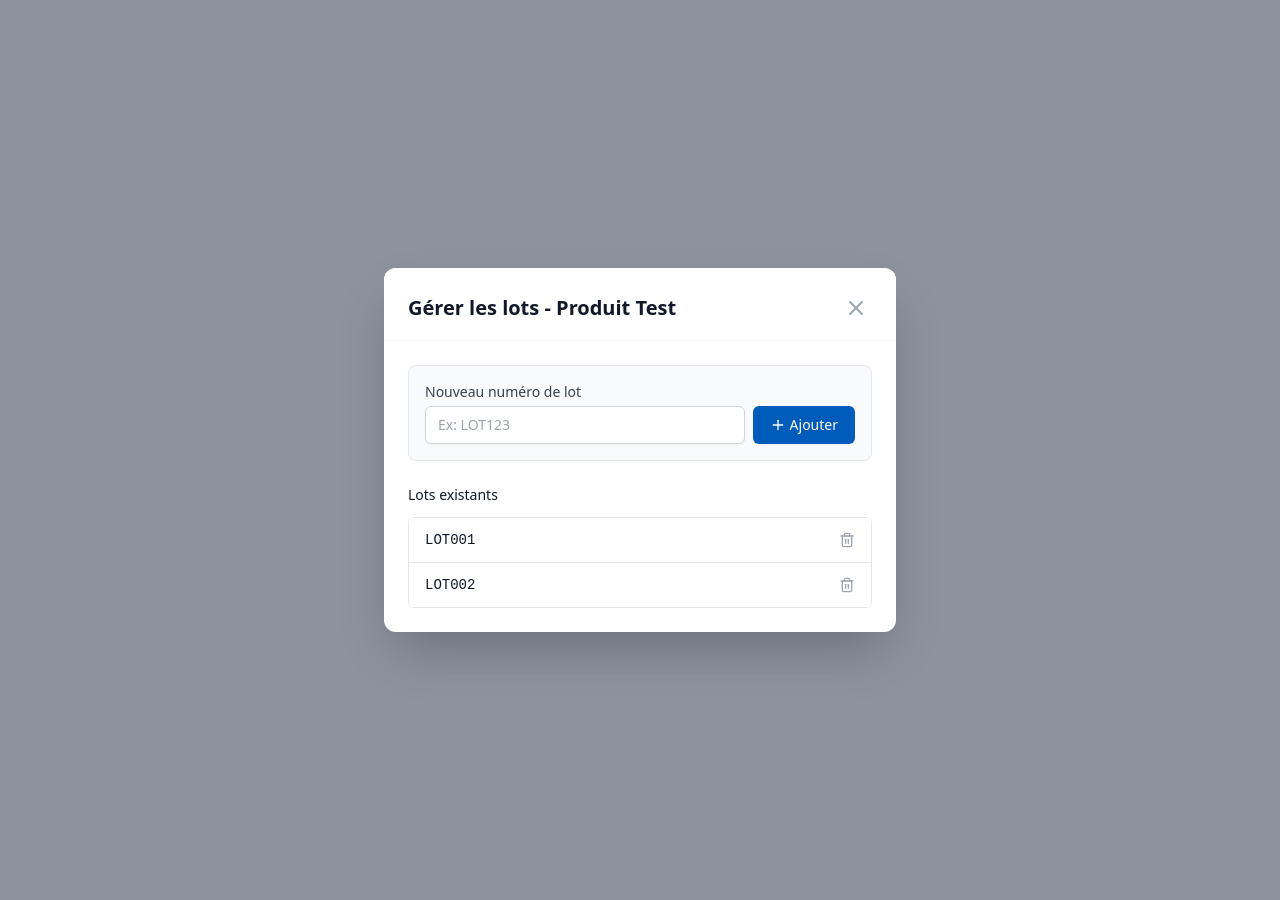
Scenario: LotManagerModal › handles duplicate error
The image size is (1280, 900).
Type "LOT001" into the field labelled "Nouveau numéro de lot" at (585, 425), box [425, 406, 745, 444]
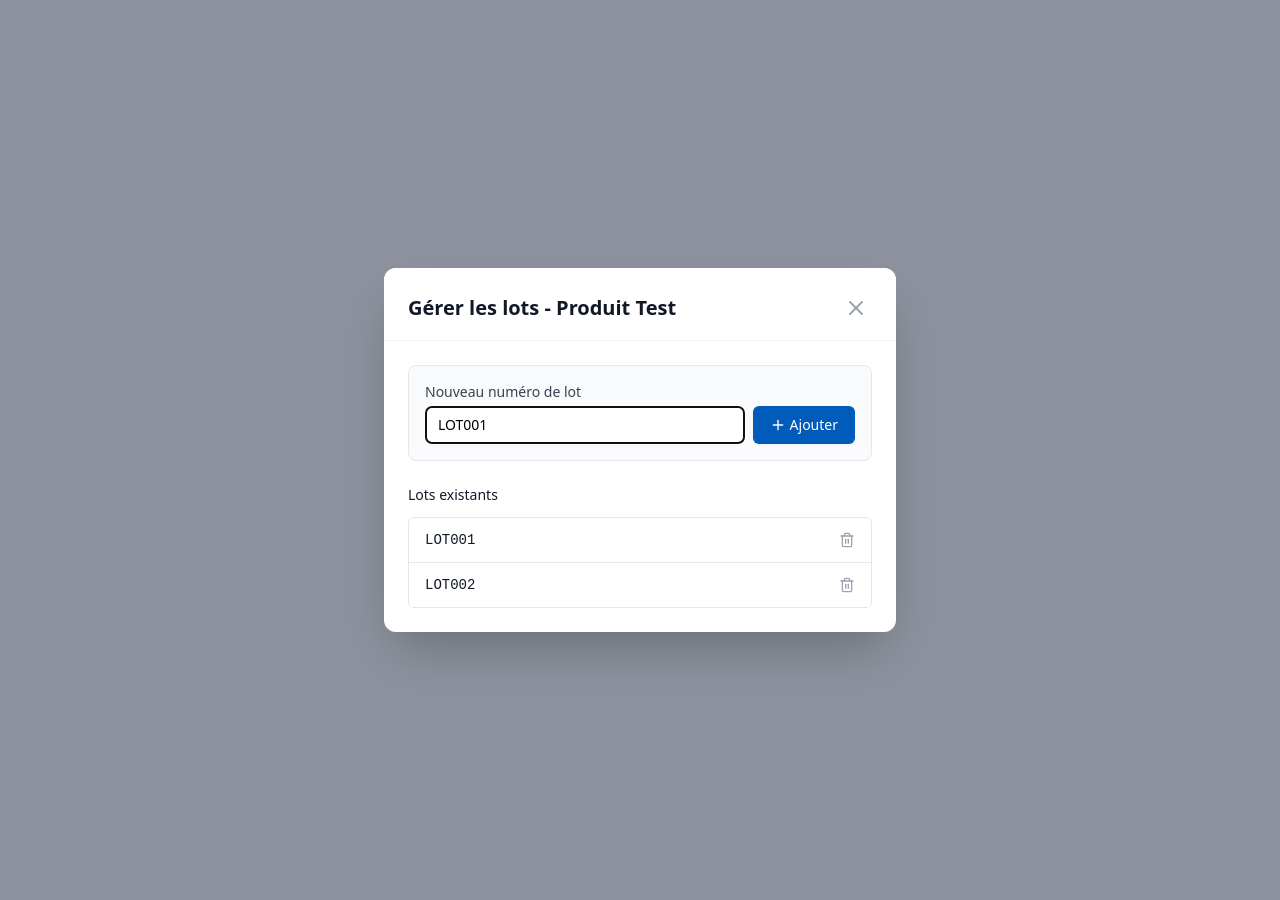
Click the button "Ajouter" at (804, 425), box [753, 406, 855, 444]
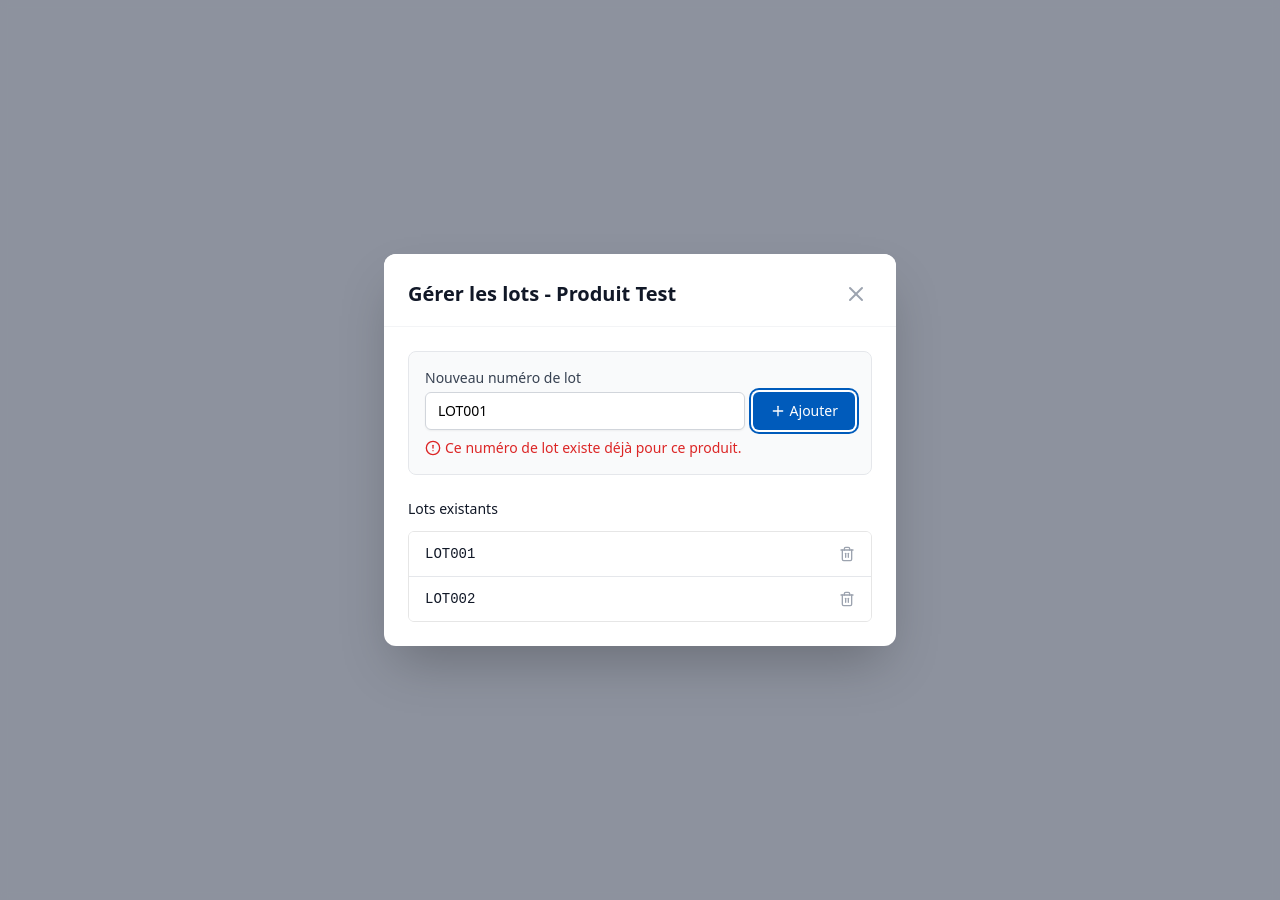
Expected: the text "Ce numéro de lot existe déjà pour ce produit." is shown, [425, 438, 741, 457]
